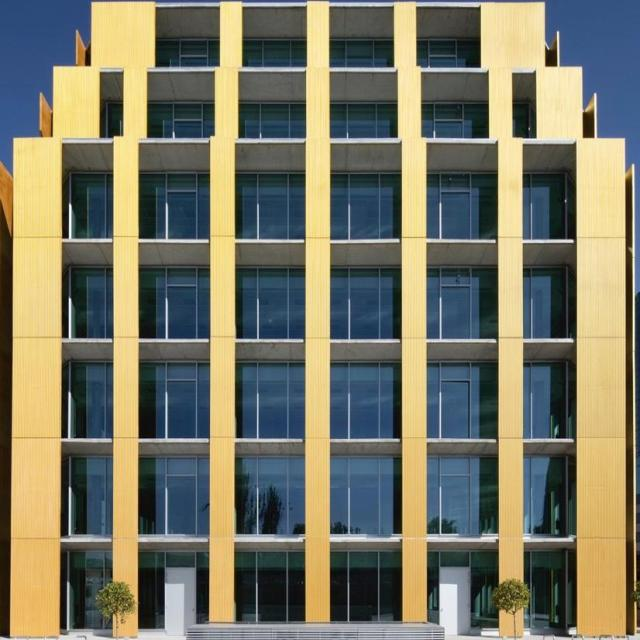door: (164, 567, 198, 638), (438, 566, 472, 636)
window: (330, 363, 402, 438), (332, 552, 404, 627), (426, 363, 497, 438), (425, 460, 496, 535), (330, 460, 401, 535), (427, 552, 498, 627), (137, 462, 209, 535), (139, 554, 211, 627), (138, 366, 210, 438), (425, 171, 495, 242), (423, 270, 493, 341), (239, 458, 302, 534), (241, 550, 304, 626), (331, 171, 402, 238), (327, 271, 399, 337), (240, 362, 302, 438), (138, 174, 211, 236), (135, 273, 207, 335), (240, 170, 304, 239), (237, 269, 301, 338), (523, 362, 568, 439), (525, 551, 570, 628), (523, 459, 567, 536), (523, 170, 568, 241), (520, 269, 565, 340), (69, 363, 112, 437), (69, 460, 112, 534), (71, 552, 114, 626), (70, 172, 112, 238), (67, 271, 109, 337), (238, 102, 306, 139), (148, 101, 216, 137), (421, 103, 489, 139), (328, 103, 397, 137), (328, 38, 395, 67), (414, 38, 480, 67), (154, 40, 220, 67), (242, 39, 305, 65), (105, 100, 122, 136), (514, 104, 529, 136)
